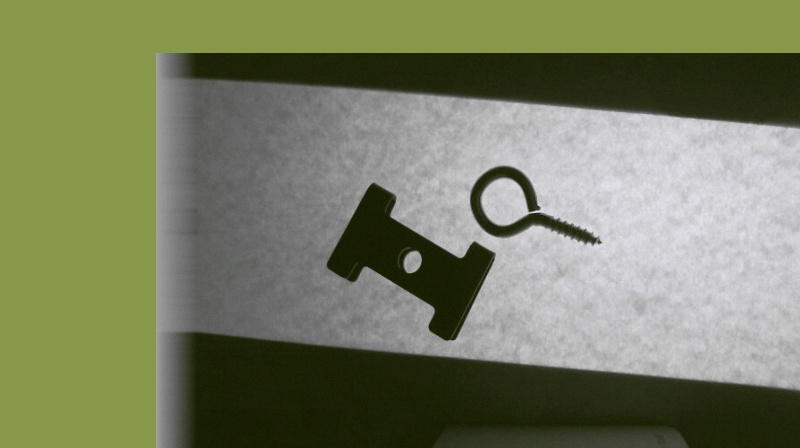O001: (468, 161, 603, 244)
O002: (325, 180, 494, 338)
